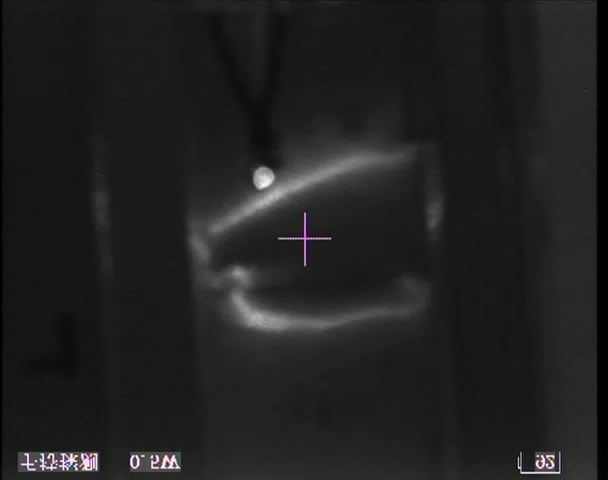my: (252, 164, 279, 190)
